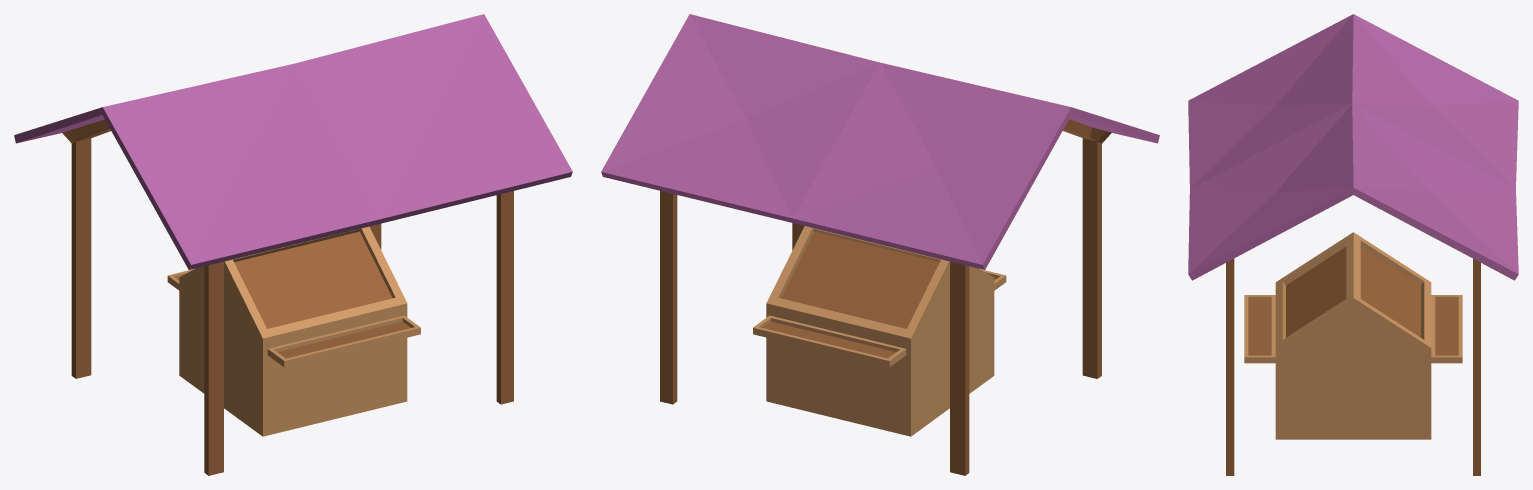
File: Stand_Purple.fbx
3 views of the same model, side by side, from view 1: azimuth 30°, elevation 25°; view 2: azimuth 150°, elevation 25°; view 3: azimuth 270°, elevation 25° (orthographic). The views are drawn at different scales.
Parts seen in each view (by area): view 1: Stand_Purple; view 2: Stand_Purple; view 3: Stand_Purple.
Boxes of the visible parts, <box> form: Stand_Purple: <box>14,14,572,475</box>; Stand_Purple: <box>601,14,1159,475</box>; Stand_Purple: <box>1188,14,1518,475</box>.
Bounding box in the file's own units: 3.5 × 2.87 × 2.81.
